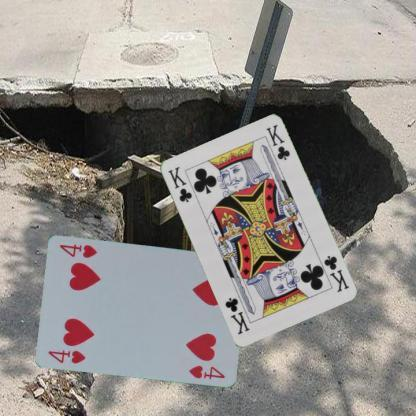4h: (45, 346, 87, 364)
Kc: (321, 252, 350, 294), (165, 163, 194, 204)
